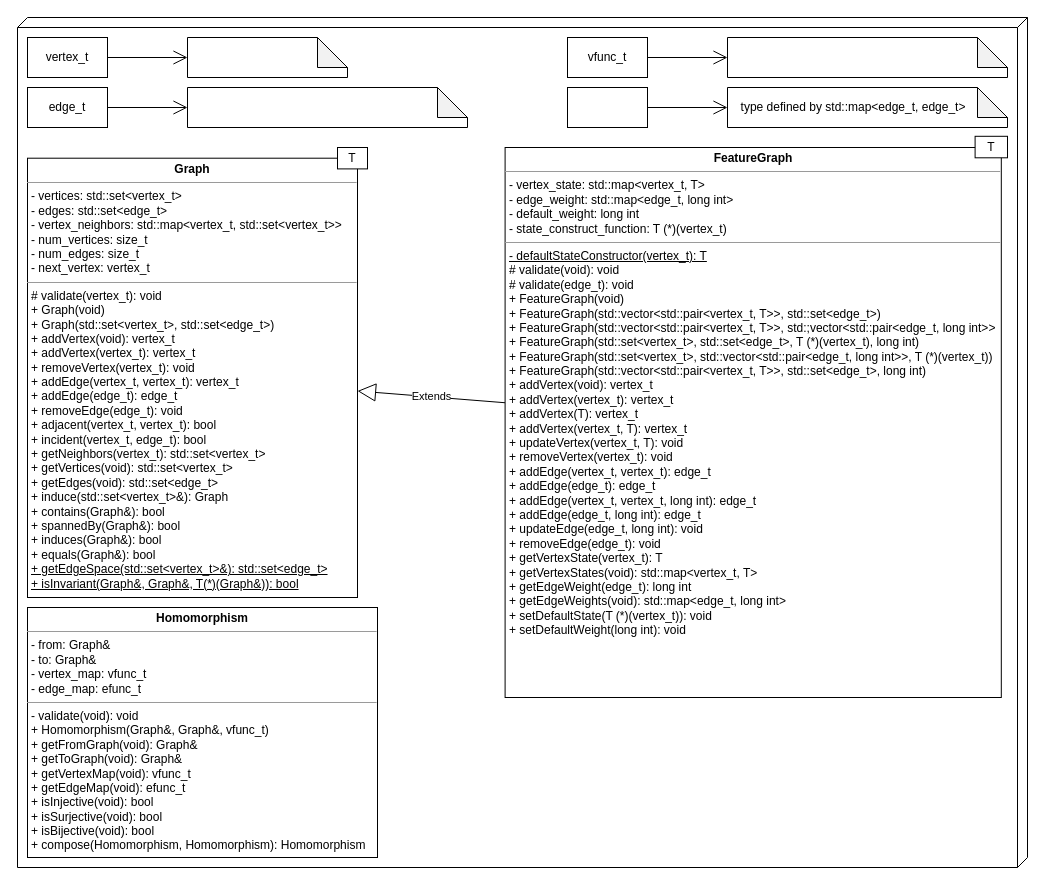
This 1045x885 diagram has some shape labels left out. The shapes that lost their labels are listed below. From the top down, each one's centre as x and y in pixels, then its label:
the point at 267,57: type defined by size_t
the point at 867,57: type defined by std::map<vertex_t, vertex_t>
the point at 327,107: type defined by std::pair<vertex_t, vertex_t>
the point at 607,107: efunc_t
